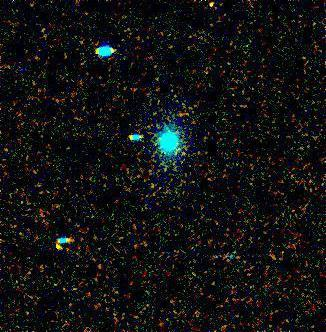star: (194, 0, 224, 25)
